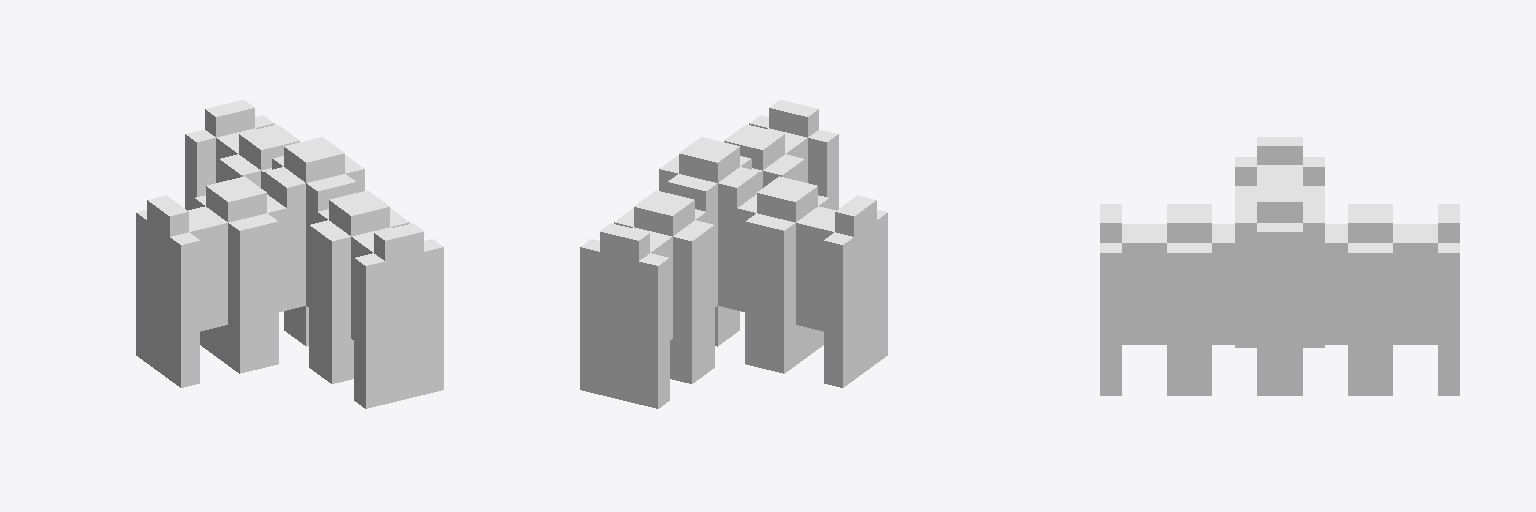
The model's file is Dungeon-11-Fence-3way.obj.
The picture shows the model from 3 angles: view 1: azimuth 30°, elevation 25°; view 2: azimuth 150°, elevation 25°; view 3: azimuth 270°, elevation 25°; orthographic projection.
Visible parts, largest first — view 1: Fence-3way; view 2: Fence-3way; view 3: Fence-3way.
Boxes of the visible parts, x1,y1,x2,y2 form: Fence-3way: [136, 100, 443, 408]; Fence-3way: [580, 100, 887, 408]; Fence-3way: [1100, 137, 1459, 395].
Bounding box in the file's own units: 1 × 0.9 × 1.6.